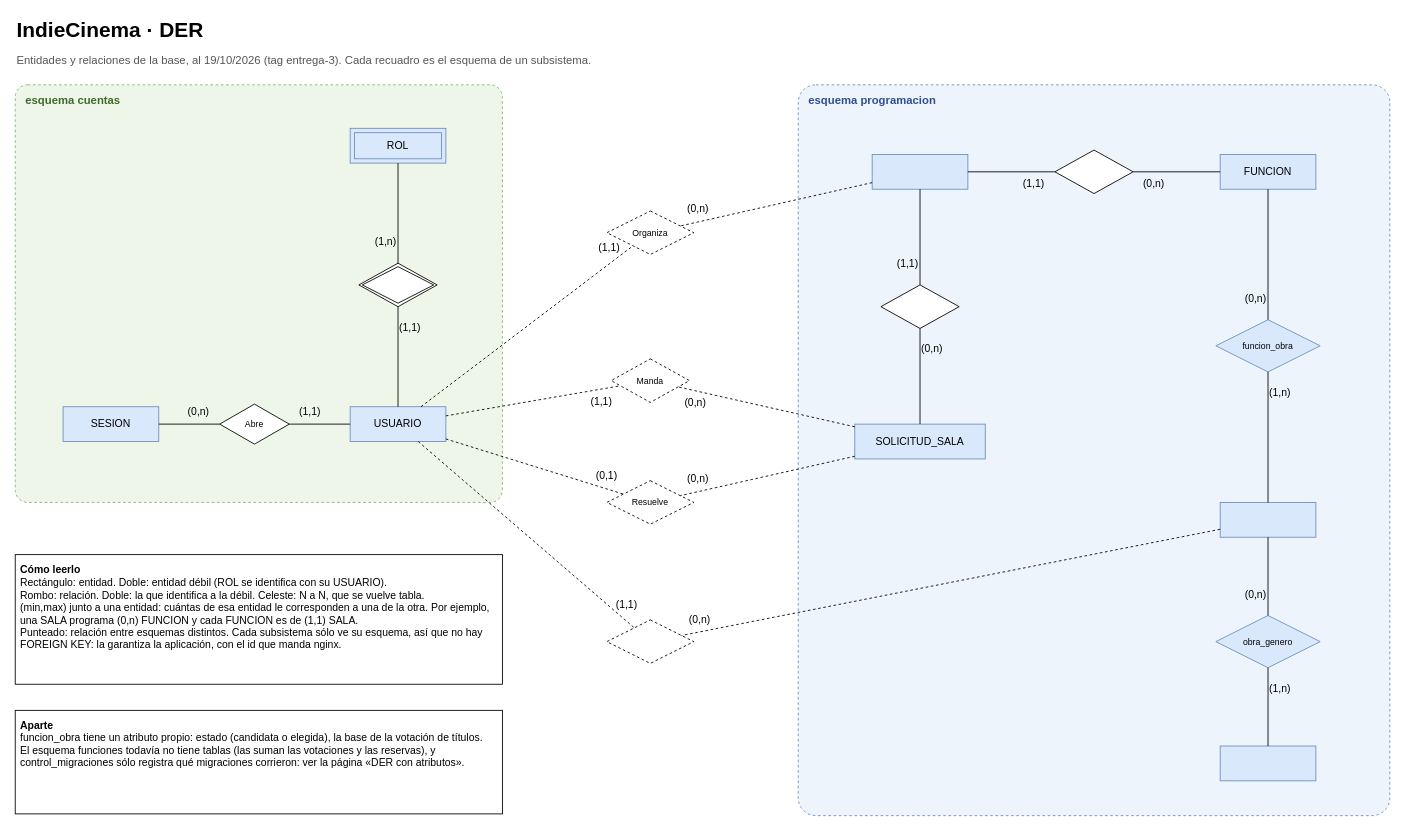
The diagram is 1405 pixels wide and 831 high, and some of its shapes have lost their labels. Each missing label, with the box of its shape:
Es_Dueño: (606, 619, 694, 663)
GENERO: (1219, 745, 1316, 781)
OBRA: (1219, 502, 1316, 537)
Programa: (1054, 149, 1133, 194)
SALA: (871, 154, 968, 189)
Se_Pide: (880, 284, 959, 328)
Tiene: (358, 262, 437, 307)
